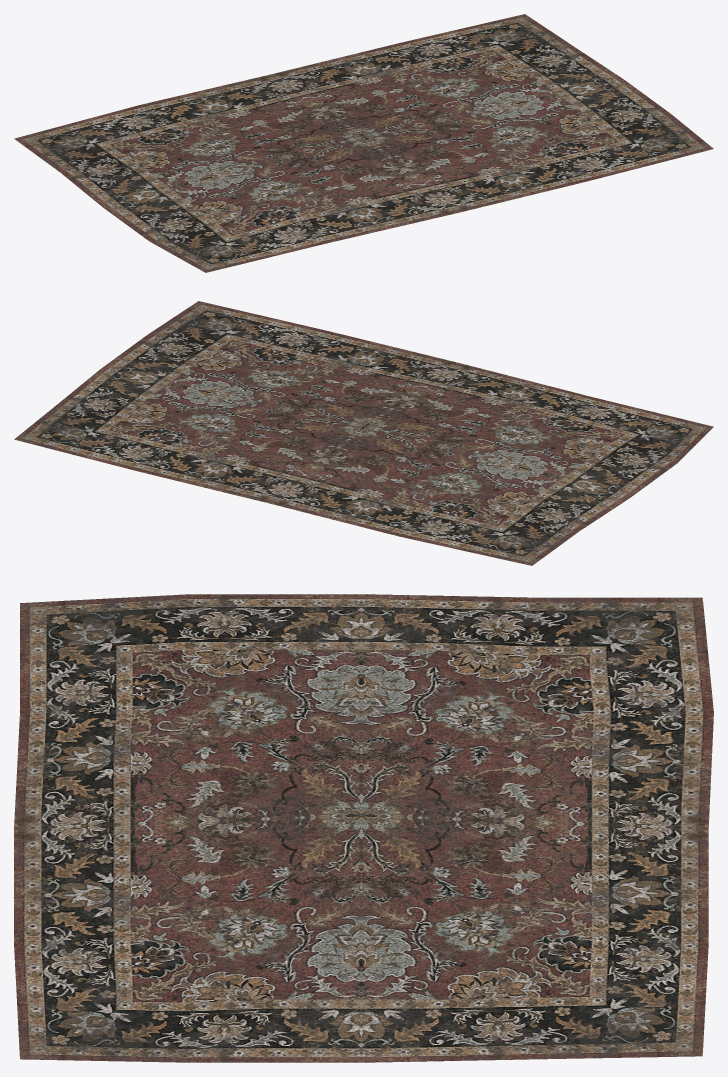
File: Prop_Dt01.glb
3 renders of one model, top to bottom at view 1: azimuth 30°, elevation 25°; view 2: azimuth 150°, elevation 25°; view 3: azimuth 270°, elevation 25°, orthographic. The views are drawn at different scales.
Visible parts, largest first — view 1: xiutz_dt_01; view 2: xiutz_dt_01; view 3: xiutz_dt_01.
Part boxes in pixels (x1,y1,x2,y2): xiutz_dt_01: [14, 14, 713, 272]; xiutz_dt_01: [14, 301, 713, 565]; xiutz_dt_01: [14, 594, 713, 1062].
Size of the model in its own units: 4.4 by 0.0583 by 2.78.
Materials: 1 (1 with a texture image).
